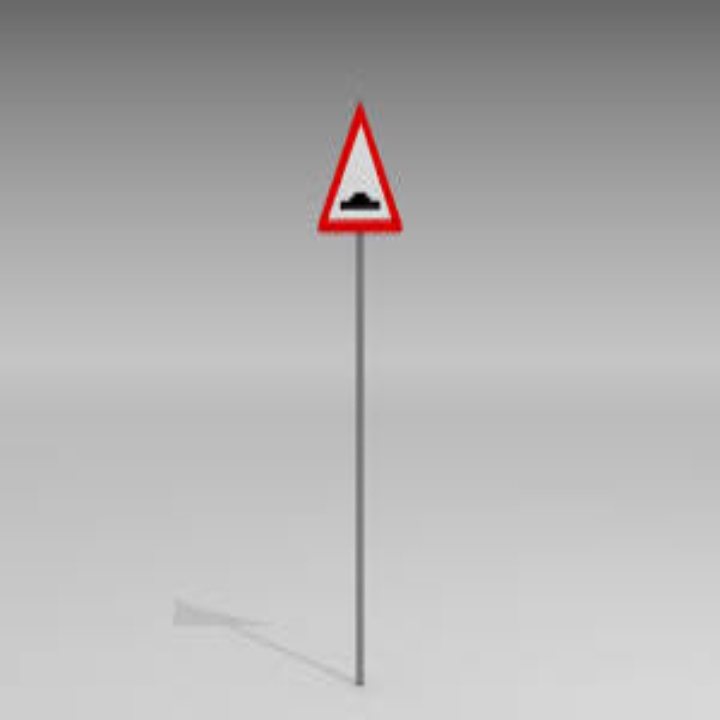bump: (331, 171, 391, 227)
